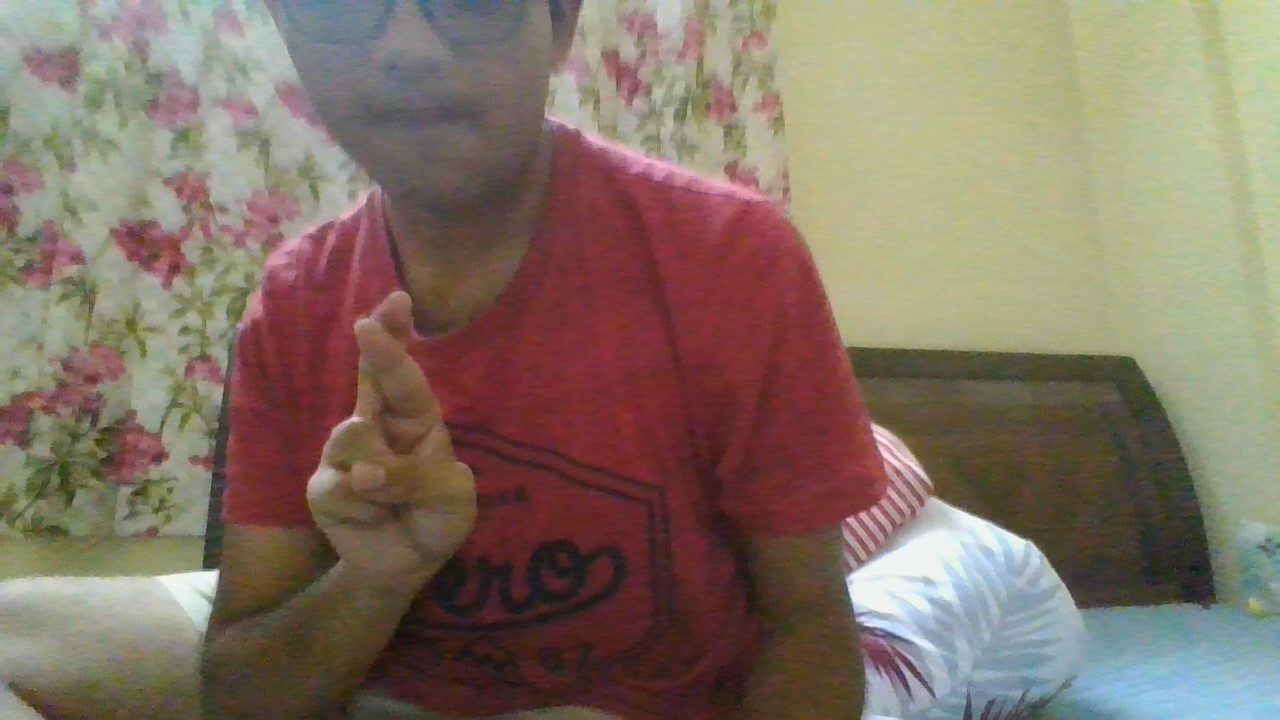r: (301, 287, 487, 585)
